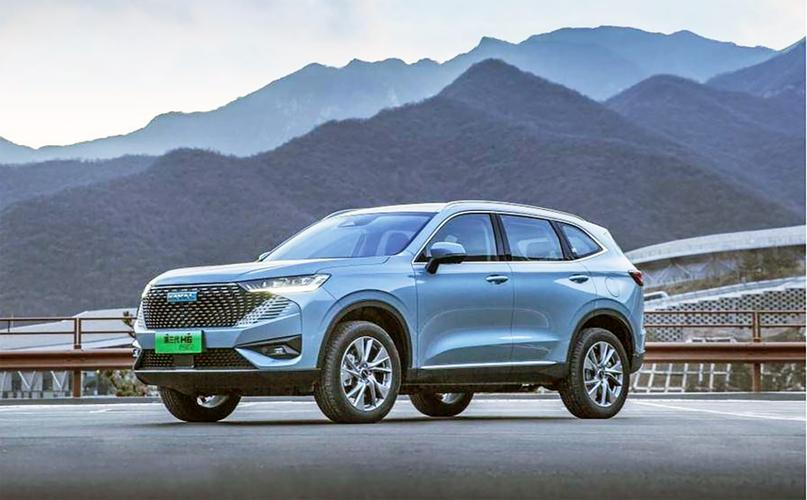汽车: (114, 197, 654, 424)
